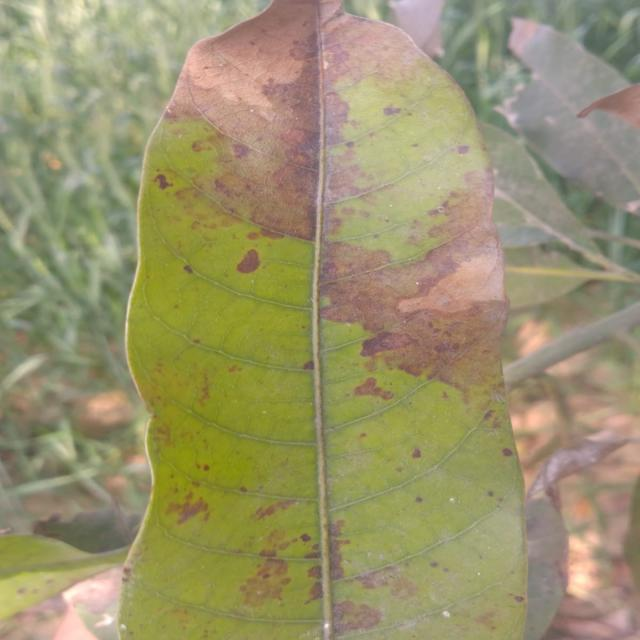Anthracnose: (231, 239, 272, 283)
Bacterial Cancer: (386, 240, 493, 355), (182, 24, 289, 86)
